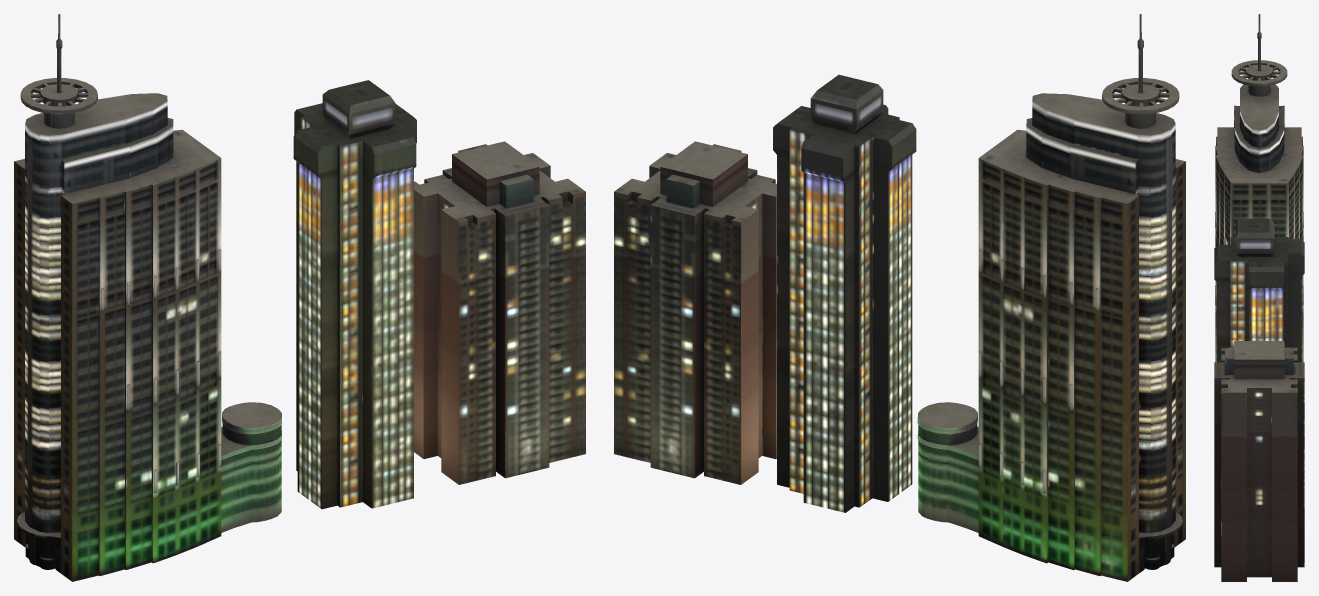
Rendered from tokyo-zakkyo-c.glb.
3 renders of one model, left to right at view 1: azimuth 30°, elevation 25°; view 2: azimuth 150°, elevation 25°; view 3: azimuth 270°, elevation 25°, orthographic. The views are drawn at different scales.
Visible parts, largest first — view 1: Clone of BACKGROUND_BUILDINGS_1_BACKGROUND_BUILDINGS_1_0, Clone of BACKGROUND_BUILDINGS_1.003_BACKGROUND_BUILDINGS_1_0, Clone of BACKGROUND_BUILDINGS_1.006_BACKGROUND_BUILDINGS_1_0; view 2: Clone of BACKGROUND_BUILDINGS_1_BACKGROUND_BUILDINGS_1_0, Clone of BACKGROUND_BUILDINGS_1.006_BACKGROUND_BUILDINGS_1_0, Clone of BACKGROUND_BUILDINGS_1.003_BACKGROUND_BUILDINGS_1_0; view 3: Clone of BACKGROUND_BUILDINGS_1.003_BACKGROUND_BUILDINGS_1_0, Clone of BACKGROUND_BUILDINGS_1_BACKGROUND_BUILDINGS_1_0, Clone of BACKGROUND_BUILDINGS_1.006_BACKGROUND_BUILDINGS_1_0.
Part boxes in pixels (x1=…): Clone of BACKGROUND_BUILDINGS_1_BACKGROUND_BUILDINGS_1_0: x1=14, y1=14, x2=281, y2=581; Clone of BACKGROUND_BUILDINGS_1.003_BACKGROUND_BUILDINGS_1_0: x1=414, y1=141, x2=585, y2=484; Clone of BACKGROUND_BUILDINGS_1.006_BACKGROUND_BUILDINGS_1_0: x1=293, y1=80, x2=416, y2=509; Clone of BACKGROUND_BUILDINGS_1_BACKGROUND_BUILDINGS_1_0: x1=917, y1=14, x2=1185, y2=581; Clone of BACKGROUND_BUILDINGS_1.006_BACKGROUND_BUILDINGS_1_0: x1=773, y1=74, x2=916, y2=512; Clone of BACKGROUND_BUILDINGS_1.003_BACKGROUND_BUILDINGS_1_0: x1=614, y1=141, x2=776, y2=484; Clone of BACKGROUND_BUILDINGS_1.003_BACKGROUND_BUILDINGS_1_0: x1=1214, y1=341, x2=1304, y2=581; Clone of BACKGROUND_BUILDINGS_1_BACKGROUND_BUILDINGS_1_0: x1=1215, y1=14, x2=1303, y2=362; Clone of BACKGROUND_BUILDINGS_1.006_BACKGROUND_BUILDINGS_1_0: x1=1214, y1=218, x2=1304, y2=362.
Bounding box in the file's own units: 189 × 182 × 38.07.
1 material, 1 textured.
